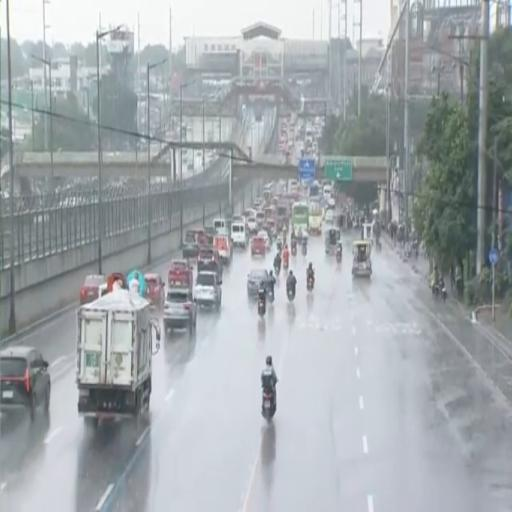bus: (309, 199, 323, 234), (292, 202, 308, 232)
car: (0, 346, 50, 420), (163, 290, 196, 333), (195, 271, 221, 309), (80, 275, 106, 305), (198, 248, 223, 278), (168, 260, 193, 289), (145, 274, 164, 308), (182, 230, 203, 259), (247, 269, 268, 297), (214, 234, 232, 264), (251, 236, 266, 255), (201, 227, 215, 247), (258, 230, 270, 250), (246, 216, 259, 234), (243, 208, 255, 222), (256, 211, 265, 228), (325, 210, 333, 223)
motorcycle: (262, 389, 275, 421), (432, 280, 447, 301), (258, 298, 266, 316), (412, 240, 419, 259), (307, 276, 314, 292), (287, 287, 295, 301), (268, 288, 274, 303), (291, 240, 296, 255), (336, 247, 341, 262), (376, 238, 381, 252), (274, 264, 280, 275), (277, 240, 282, 251), (302, 243, 306, 255), (283, 260, 288, 269)
truck: (77, 290, 160, 427)
